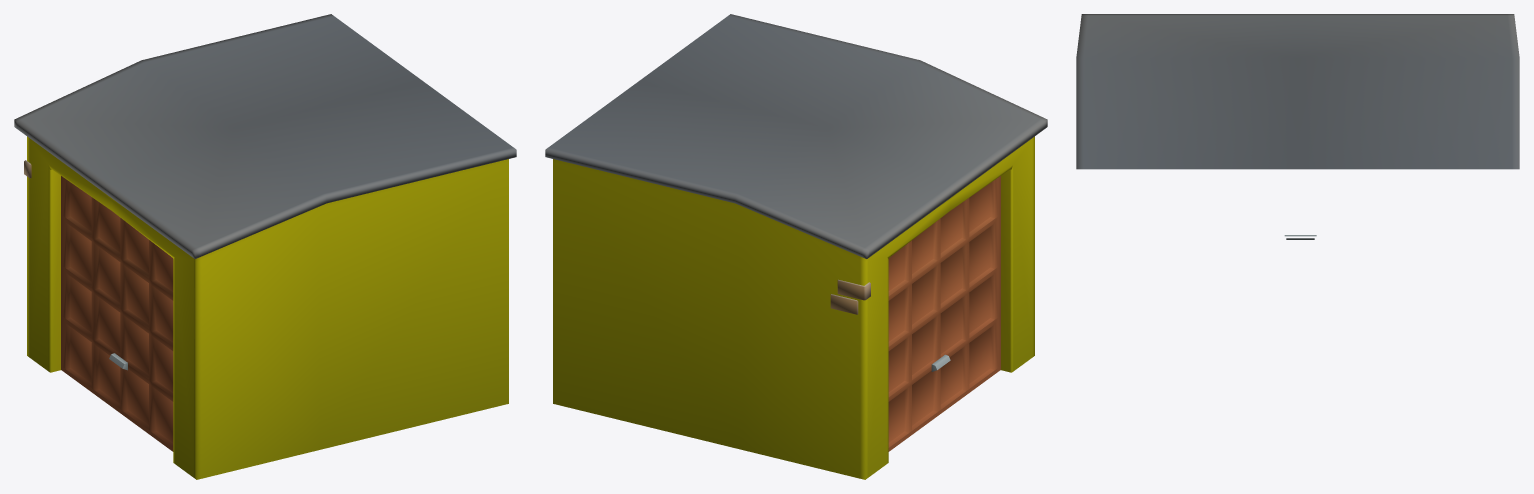
The model's file is Garage01.glb.
3 views of the same model, side by side, from view 1: azimuth 30°, elevation 25°; view 2: azimuth 150°, elevation 25°; view 3: azimuth 270°, elevation 25° (orthographic). The views are drawn at different scales.
Parts seen in each view (by area): view 1: Garage01; view 2: Garage01; view 3: Garage01.
Part boxes in pixels (x1,y1,x2,y2): Garage01: [14, 14, 516, 479]; Garage01: [545, 14, 1047, 479]; Garage01: [1076, 14, 1519, 239].
Size of the model in its own units: 7.65 by 5.94 by 7.69.
2 materials, 1 textured.
